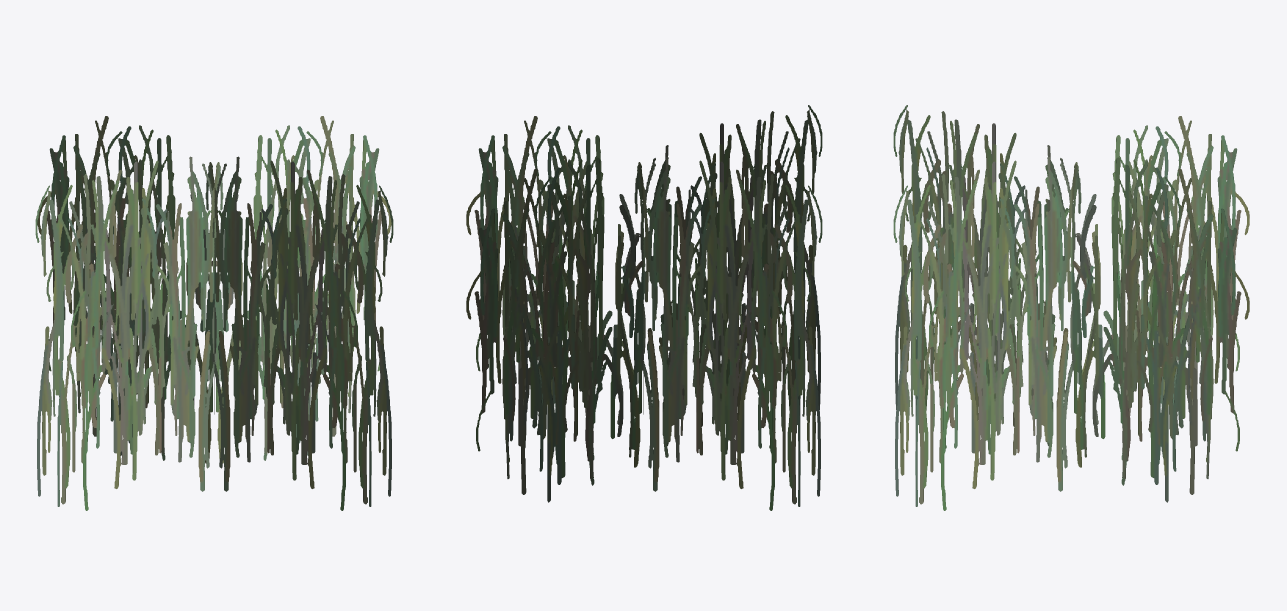
File: tamarisk_clump.glb
3 views of the same model, side by side, from view 1: azimuth 30°, elevation 25°; view 2: azimuth 150°, elevation 25°; view 3: azimuth 270°, elevation 25° (orthographic).
Parts seen in each view (by area): view 1: tamarisk_clump; view 2: tamarisk_clump; view 3: tamarisk_clump.
Part boxes in pixels (x1,y1,x2,y2): tamarisk_clump: (35,116,393,510); tamarisk_clump: (466,105,822,510); tamarisk_clump: (893,105,1249,510).
Bounding box in the file's own units: 2.6 × 2.4 × 2.25.
Materials: 1 (1 with a texture image).
